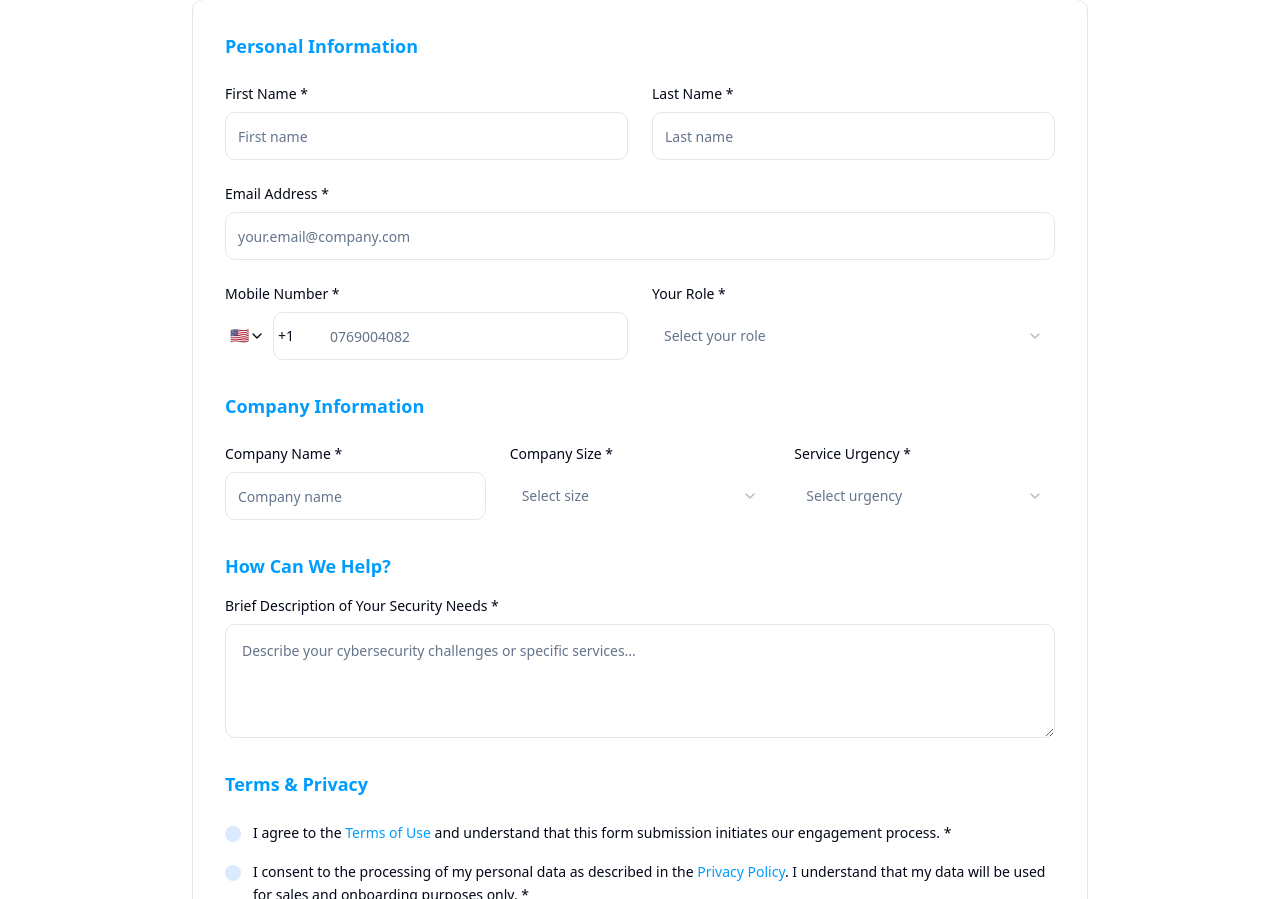
Test: ContactForm › requires terms and privacy consent
// Fill in required fields
Type "John" into the field labelled "First Name *".
click(426, 136); type("John")  # box [225,112,628,160]
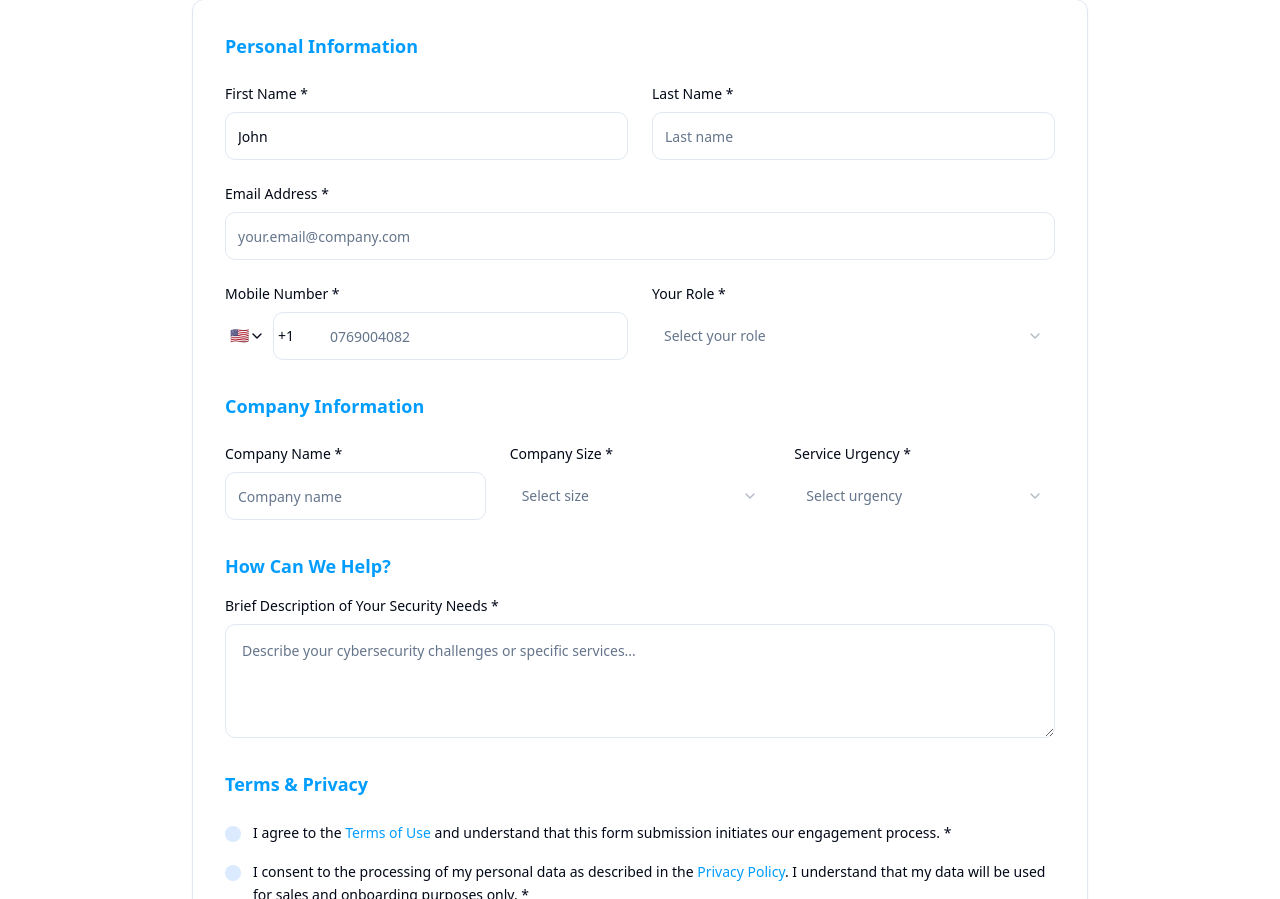
Type "Doe" into the field labelled "Last Name *".
click(854, 136); type("Doe")  # box [652,112,1055,160]
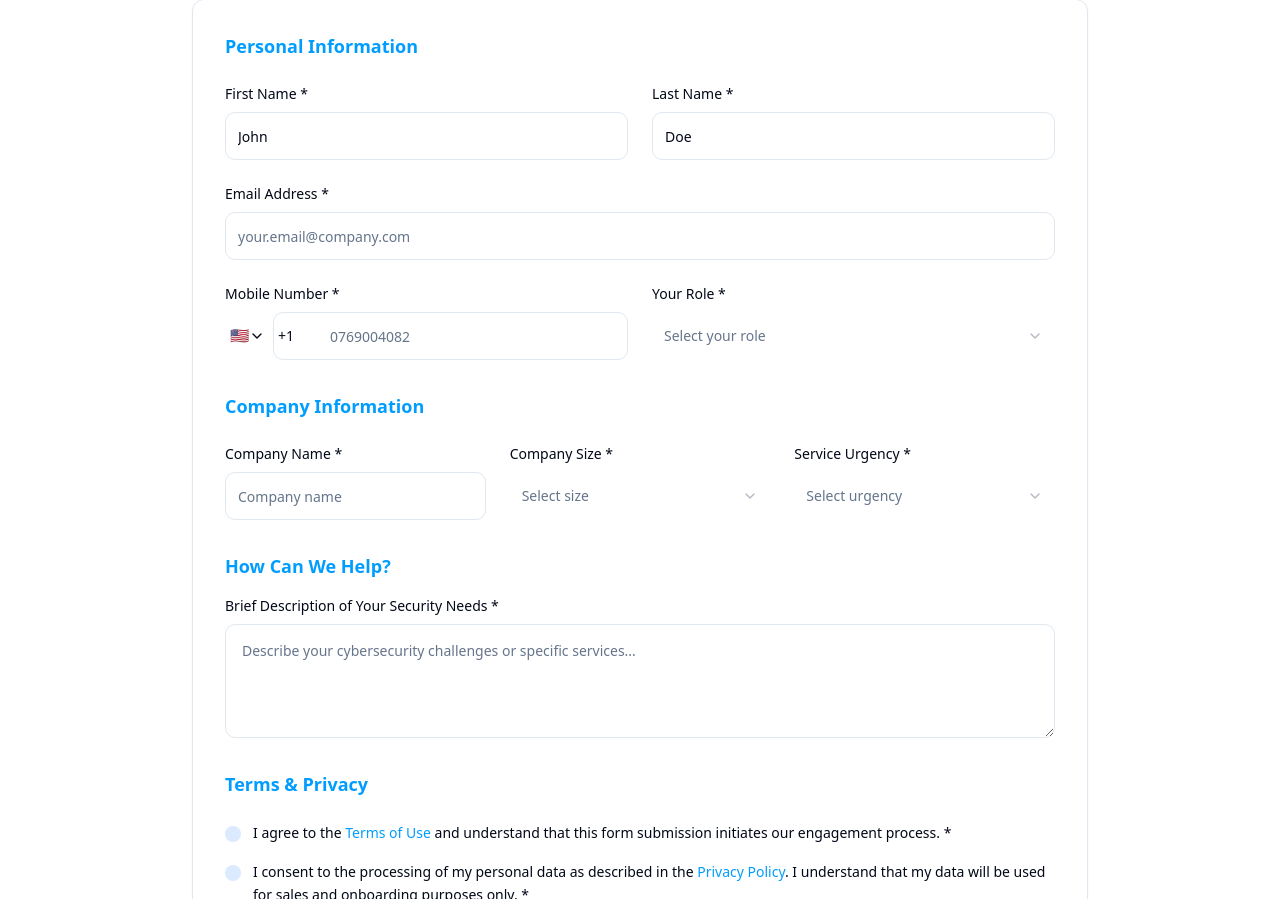
Type "john@example.com" into the field labelled "Email Address *".
click(640, 236); type("john@example.com")  # box [225,212,1055,260]
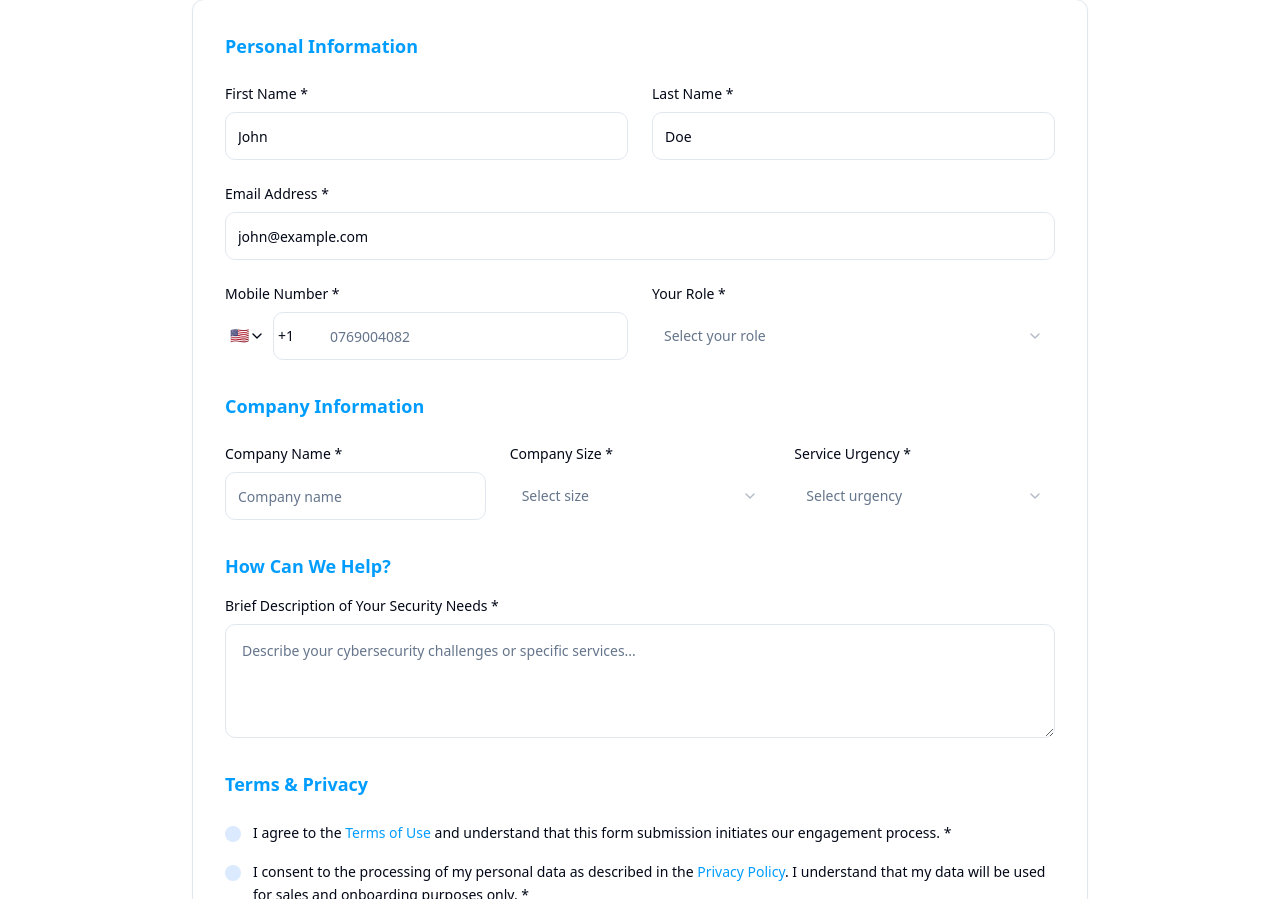
Replace the text in the text box labelled "Brief Description of Your Security Needs *" with "This is a detailed description of my security needs" at (640, 681), box [225,624,1055,738]
(page scrolled)
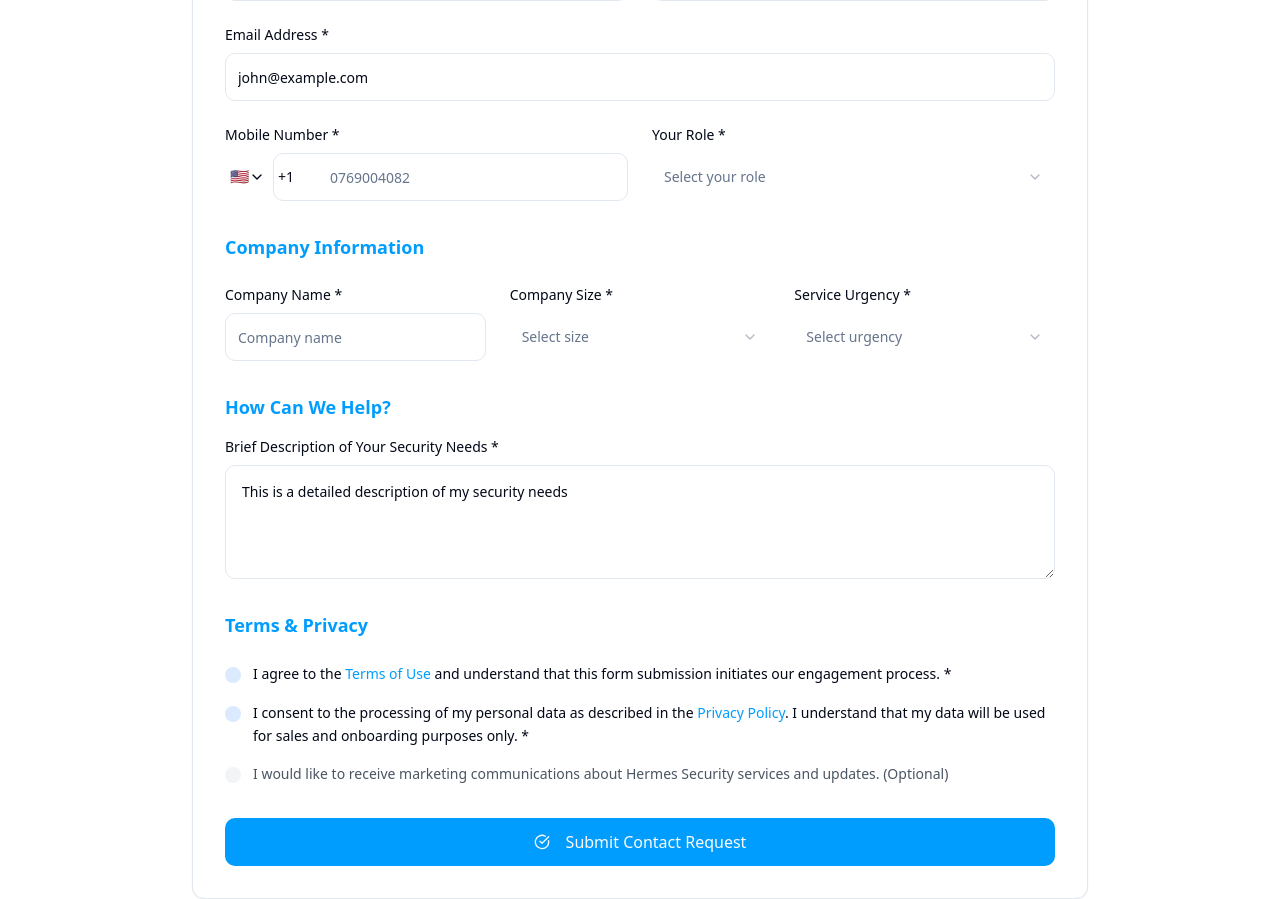
Click the button "Submit Contact Request".
click(640, 842)  # box [225,818,1055,866]
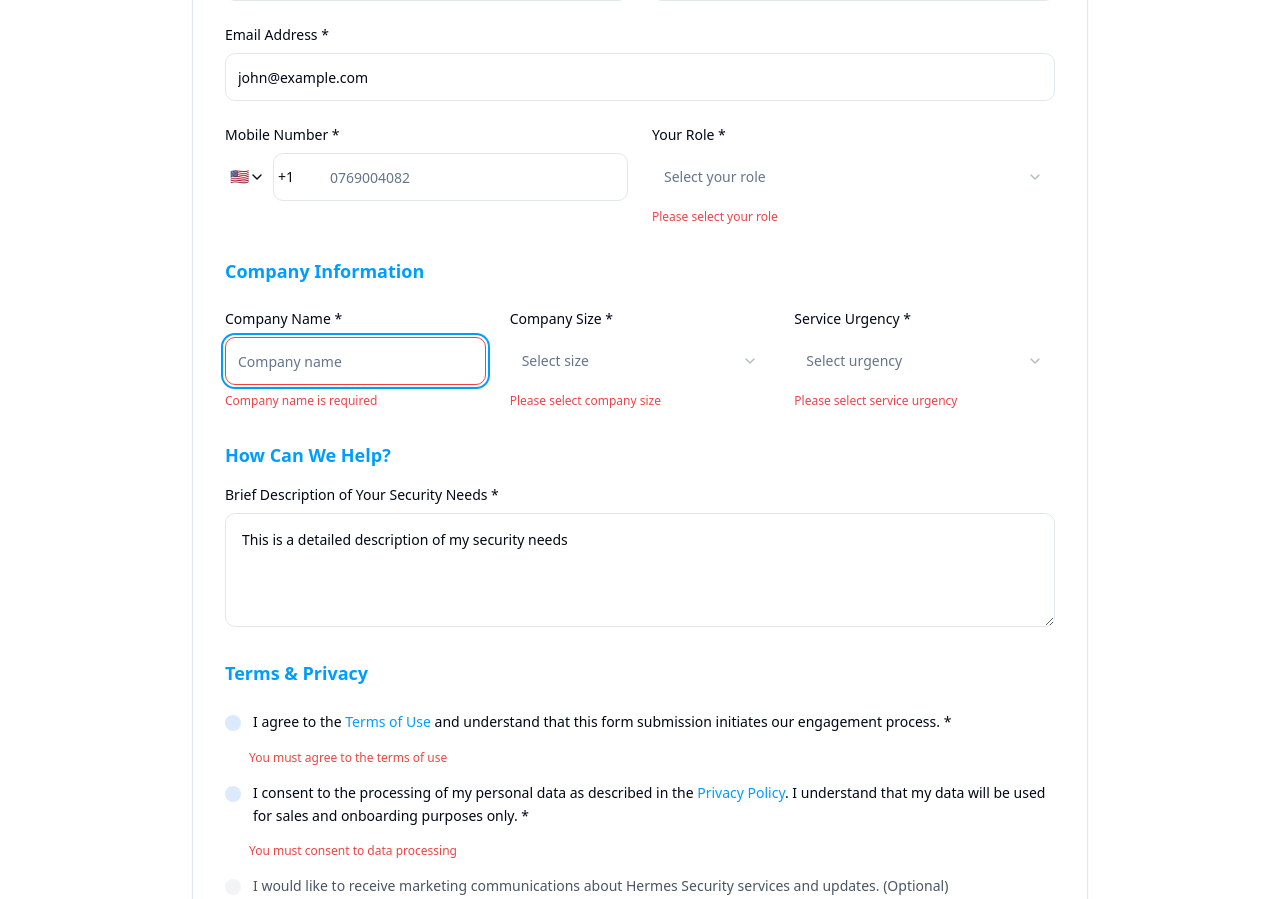
expect the text "You must agree to the terms of use" is shown: met, box [249,749,447,766]
expect the text "You must consent to data processing" is shown: met, box [249,842,457,859]
